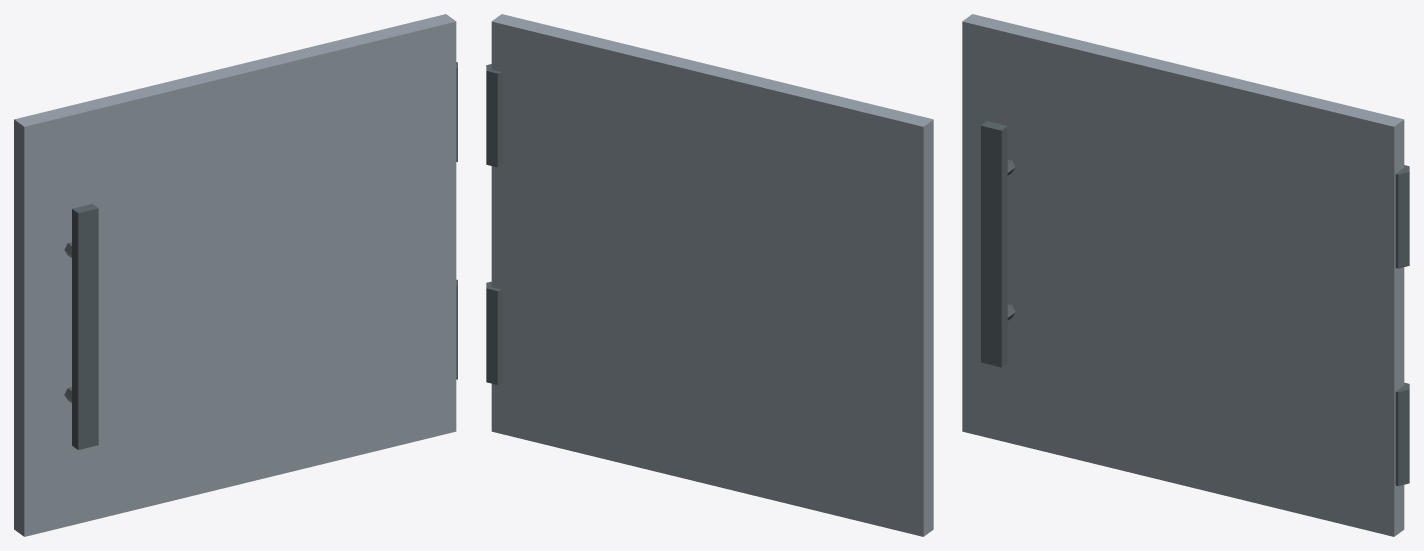
File: SM_Prop_Kitchen_Grill_01_Door_02.obj
3 views of the same model, side by side, from view 1: azimuth 30°, elevation 25°; view 2: azimuth 150°, elevation 25°; view 3: azimuth 330°, elevation 25° (orthographic).
Visible parts, largest first — view 1: SM_Prop_Kitchen_Grill_01_Door_02_0; view 2: SM_Prop_Kitchen_Grill_01_Door_02_0; view 3: SM_Prop_Kitchen_Grill_01_Door_02_0.
Boxes of the visible parts, x1,y1,x2,y2 form: SM_Prop_Kitchen_Grill_01_Door_02_0: (14,14,457,536); SM_Prop_Kitchen_Grill_01_Door_02_0: (486,14,933,536); SM_Prop_Kitchen_Grill_01_Door_02_0: (962,14,1409,536).
Size of the model in its own units: 0.5648 by 0.5025 by 0.0673.
1 material, 1 textured.
